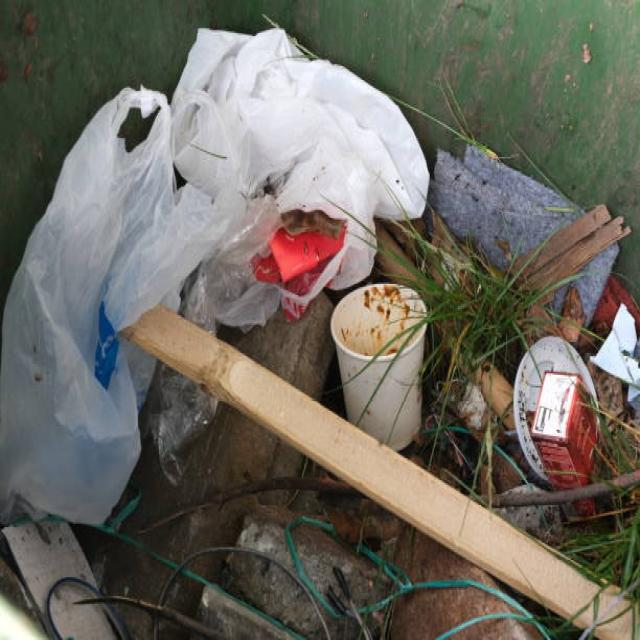plastic: (183, 56, 383, 251), (21, 251, 134, 483), (338, 303, 422, 417)
